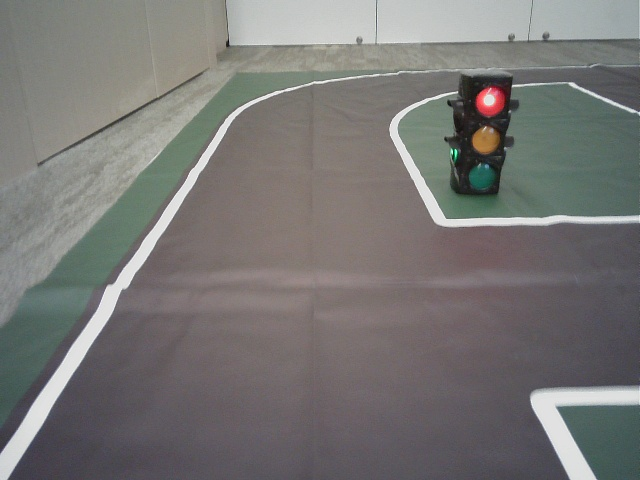red: (464, 82, 502, 193)
